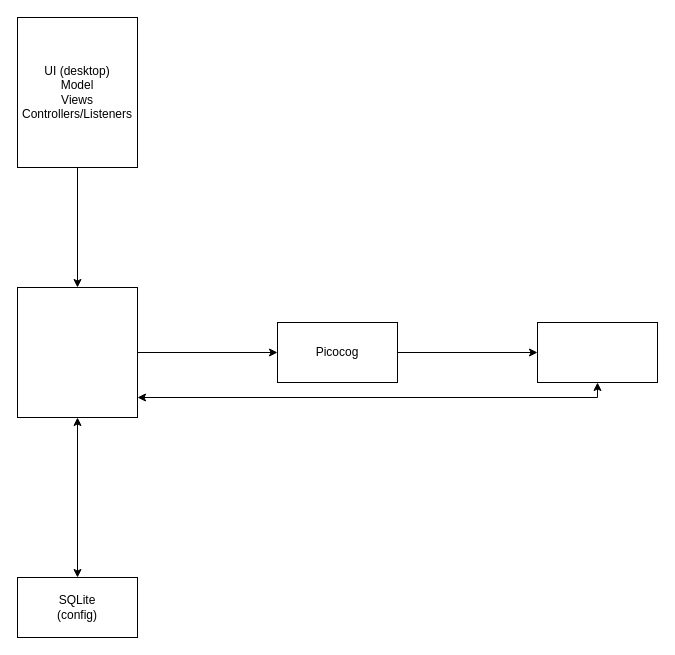
This 675x655 diagram has some shape labels left out. The shapes that lost their labels are listed below. From the top down, each one's centre as x and y in pixels, then its label:
the point at 77,352: Service: write java write yml write dir structure archive get config set config
the point at 597,352: Filesystem (project files)
